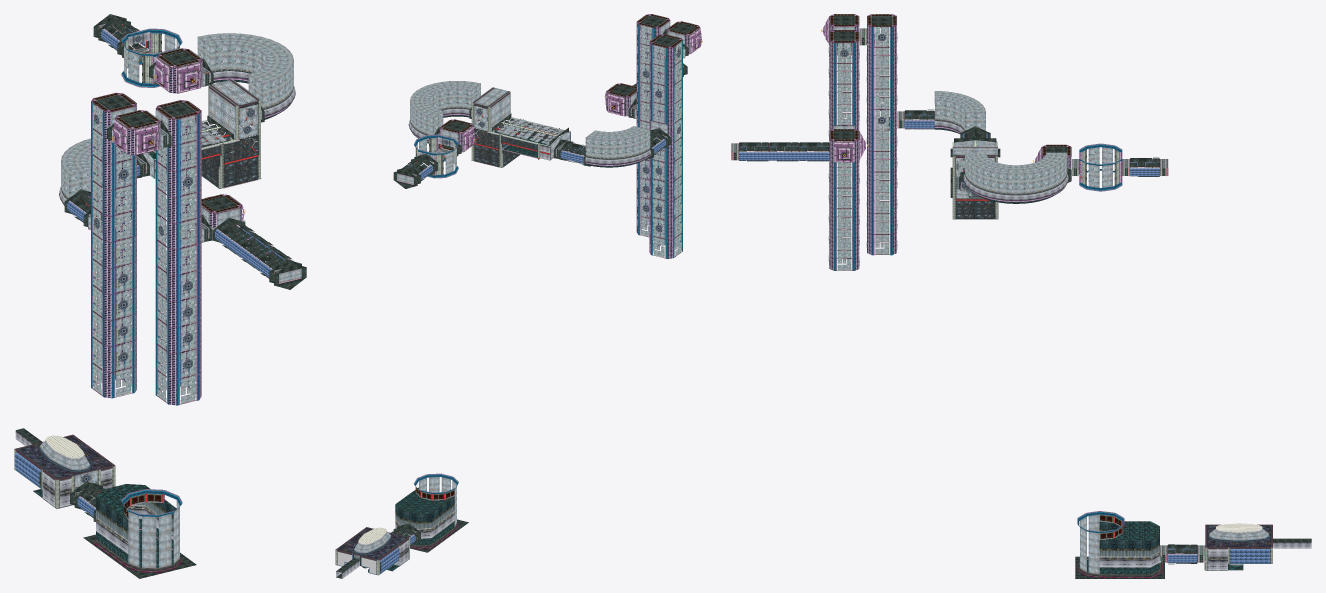
File: CannonsCoreEggman.obj
The picture shows the model from 3 angles, left to right: view 1: azimuth 30°, elevation 25°; view 2: azimuth 150°, elevation 25°; view 3: azimuth 270°, elevation 25°; orthographic projection. The views are drawn at different scales.
Size of the model in its own units: 1727 by 3513 by 3849.
Materials: 32 (32 with a texture image).
